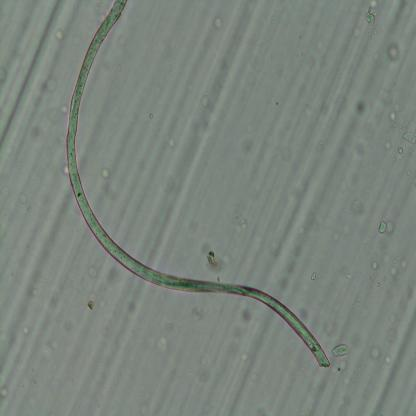Background material: (0, 0, 57, 140), (389, 119, 416, 151), (379, 89, 403, 120), (206, 249, 232, 270), (365, 0, 378, 38), (300, 214, 319, 235), (30, 276, 48, 295), (157, 332, 170, 356), (17, 190, 31, 211), (378, 218, 394, 236), (386, 43, 399, 64), (332, 343, 350, 358), (59, 193, 70, 217), (280, 144, 293, 164), (350, 199, 366, 215), (238, 305, 252, 323), (200, 88, 212, 108), (0, 376, 10, 400), (334, 358, 348, 373), (97, 166, 112, 180), (368, 344, 381, 360), (53, 26, 66, 41), (171, 364, 183, 380), (385, 327, 398, 341), (44, 78, 56, 93), (86, 262, 98, 277), (127, 296, 138, 312), (356, 98, 366, 115), (287, 260, 299, 274), (212, 16, 224, 30), (198, 350, 209, 365), (190, 307, 204, 318), (51, 107, 60, 124), (299, 308, 309, 323), (293, 244, 303, 259), (343, 270, 355, 282), (0, 66, 8, 83), (85, 300, 97, 311), (386, 312, 397, 324), (299, 406, 312, 416), (281, 274, 290, 288), (60, 102, 70, 114), (372, 52, 382, 64), (352, 24, 360, 38), (250, 39, 262, 48), (384, 138, 392, 151), (390, 265, 399, 276), (331, 231, 340, 242), (254, 408, 266, 416), (167, 138, 176, 148), (383, 354, 392, 364), (353, 299, 362, 309), (344, 225, 352, 236), (240, 352, 248, 363), (397, 146, 403, 160), (400, 258, 407, 269), (63, 164, 69, 176), (311, 272, 319, 281), (241, 220, 248, 230), (268, 15, 275, 25), (371, 260, 378, 270), (140, 387, 146, 398), (68, 322, 74, 333), (22, 326, 29, 334), (270, 54, 275, 62), (392, 258, 398, 264), (168, 321, 172, 329), (150, 112, 154, 119), (377, 282, 381, 288), (174, 116, 177, 123), (118, 64, 121, 71), (298, 35, 302, 40), (320, 142, 324, 146)
Microfibre: (65, 0, 329, 372)
